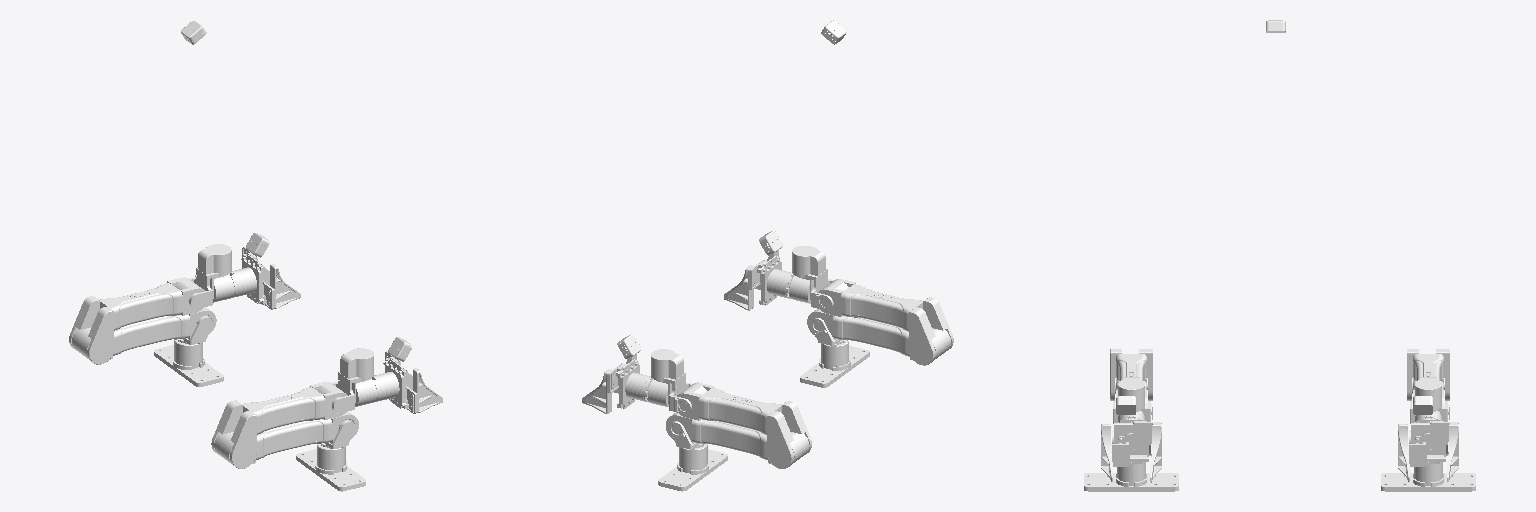
--- Render facts (derived) ---
The picture shows the robot from 3 angles, left to right: view 1: azimuth 30°, elevation 25°; view 2: azimuth 150°, elevation 25°; view 3: azimuth 270°, elevation 25°; orthographic projection.
Model converted_robot with 54 links and 53 joints (12 revolute, 41 fixed), rooted at world, posed every joint at zero.
Visible links, largest first — view 1: right_link_3, left_link_3, left_link_2, right_link_2, right_arm, left_arm, left_link_4, right_link_4, right_link_6, left_link_6, left_right_link_finger, right_right_link_finger (+2 smaller); view 2: right_link_3, left_link_3, right_link_2, left_link_2, left_arm, right_arm, right_link_4, left_link_4, left_link_6, right_link_6, right_left_link_finger, left_left_link_finger (+1 smaller); view 3: left_arm, right_arm, right_link_3, left_link_3, left_left_link_finger, right_left_link_finger, right_right_link_finger, left_right_link_finger, left_link_4, right_link_4, right_link_6, left_link_6.
Link boxes in pixels (bbox=[...]): right_link_3: bbox=[211, 382, 347, 468]; left_link_3: bbox=[69, 277, 204, 364]; left_link_2: bbox=[72, 307, 216, 359]; right_link_2: bbox=[214, 412, 358, 463]; right_arm: bbox=[296, 443, 365, 491]; left_arm: bbox=[154, 339, 223, 386]; left_link_4: bbox=[189, 244, 231, 308]; right_link_4: bbox=[332, 348, 373, 412]; right_link_6: bbox=[371, 358, 408, 408]; left_link_6: bbox=[229, 253, 266, 304]; left_right_link_finger: bbox=[260, 264, 300, 309]; right_right_link_finger: bbox=[402, 368, 442, 413]; right_link_3: bbox=[818, 279, 953, 365]; left_link_3: bbox=[677, 382, 811, 468]; right_link_2: bbox=[807, 309, 950, 360]; left_link_2: bbox=[666, 412, 809, 463]; left_arm: bbox=[658, 444, 727, 491]; right_arm: bbox=[800, 340, 869, 387]; right_link_4: bbox=[792, 246, 833, 310]; left_link_4: bbox=[651, 349, 691, 413]; left_link_6: bbox=[616, 359, 652, 408]; right_link_6: bbox=[757, 256, 794, 305]; right_left_link_finger: bbox=[724, 260, 767, 310]; left_left_link_finger: bbox=[582, 363, 626, 413]; left_arm: bbox=[1381, 462, 1475, 491]; right_arm: bbox=[1084, 462, 1178, 491]; right_link_3: bbox=[1110, 349, 1152, 407]; left_link_3: bbox=[1407, 349, 1449, 407]; left_left_link_finger: bbox=[1430, 421, 1458, 481]; right_left_link_finger: bbox=[1133, 421, 1161, 482]; right_right_link_finger: bbox=[1101, 424, 1129, 481]; left_right_link_finger: bbox=[1398, 424, 1426, 482]; left_link_4: bbox=[1410, 377, 1449, 423]; right_link_4: bbox=[1113, 377, 1152, 423]; right_link_6: bbox=[1114, 418, 1148, 463]; left_link_6: bbox=[1411, 418, 1445, 463].
Size in the robot's own frame: 0.5326 by 0.82 by 0.9936 metres.
40 mesh visuals loaded from 19 distinct referenced files (18 binary STL); not drawn: 1 (reference not matched to a file when rendering).

robot.urdf — converted_robot:
<?xml version="1.0" ?>
<robot name="converted_robot">
   <!--generated with mjcf_urdf_simple_converter (https://github.com/Yasu31/mjcf_urdf_simple_converter)-->
   <link name="world">
      <inertial>
         <origin xyz="0.0 0.0 0.0" rpy="0.0 0.0 0.0"/>
         <mass value="0.0"/>
         <inertia ixx="0.0" iyy="0.0" izz="0.0" ixy="0" ixz="0" iyz="0"/>
      </inertial>
      <visual name="base_visual_gate">
         <origin xyz="6.044793211751718e-08 -1.208077272850722e-07 0.6055970717456246" rpy="1.5707963267948966 0.0 0.0"/>
         <geometry>
            <mesh filename="converted_base_visual_gate.stl"/>
         </geometry>
         <material name="white"/>
      </visual>
   </link>
   <link name="gate_collision">
      <inertial>
         <origin xyz="0.0 0.0 0.6341275167785235" rpy="1.5707963267948963 0.0 0.0"/>
         <mass value="2.682"/>
         <inertia ixx="0.9070943083892616" iyy="0.6591625499999998" izz="0.24833405838926176" ixy="0" ixz="0" iyz="0"/>
      </inertial>
   </link>
   <joint type="fixed" name="world2gate_collision_fixed">
      <parent link="world"/>
      <child link="gate_collision"/>
      <origin xyz="0.0 0.0 0.75" rpy="0.0 0.0 0.0"/>
   </joint>
   <link name="top_bar_center">
      <inertial>
         <origin xyz="0.0 0.0 0.915" rpy="0.0 0.0 0.0"/>
         <mass value="0.0"/>
         <inertia ixx="0.0" iyy="0.0" izz="0.0" ixy="0" ixz="0" iyz="0"/>
      </inertial>
   </link>
   <joint type="fixed" name="gate_collision2top_bar_center_fixed">
      <parent link="gate_collision"/>
      <child link="top_bar_center"/>
      <origin xyz="0.0 0.0 0.915" rpy="0.0 0.0 0.0"/>
   </joint>
   <link name="top_camera_d405">
      <inertial>
         <origin xyz="5.836344222936563e-05 6.962318781131341e-06 -0.01113196181391871" rpy="3.141592653589793 -1.568072890381705 0.0"/>
         <mass value="0.041626485095382235"/>
         <inertia ixx="1.1629701774404747e-05" iyy="7.679969361232612e-06" izz="7.6231825803312755e-06" ixy="0" ixz="0" iyz="0"/>
      </inertial>
      <visual name="camera_d405">
         <origin xyz="5.836344222936564e-05 6.962318781131341e-06 -0.01113196181391871" rpy="3.141592653589793 -1.5680728903817045 0.0"/>
         <geometry>
            <mesh filename="converted_camera_d405.stl"/>
         </geometry>
         <material name="white"/>
      </visual>
      <visual name="camera_d405">
         <origin xyz="5.836344222936564e-05 6.962318781131341e-06 -0.01113196181391871" rpy="3.141592653589793 -1.5680728903817045 0.0"/>
         <geometry>
            <mesh filename="converted_camera_d405.stl"/>
         </geometry>
         <material name="white"/>
      </visual>
   </link>
   <joint type="fixed" name="top_bar_center2top_camera_d405_fixed">
      <parent link="top_bar_center"/>
      <child link="top_camera_d405"/>
      <origin xyz="0.08600512 -0.009 0.03932053" rpy="2.6179960138264193 0.0 1.570796326794897"/>
   </joint>
   <link name="top_camera_frame">
      <inertial>
         <origin xyz="0.009 0.0 0.0" rpy="0.0 0.0 3.141592653589793"/>
         <mass value="0.0"/>
         <inertia ixx="0.0" iyy="0.0" izz="0.0" ixy="0" ixz="0" iyz="0"/>
      </inertial>
   </link>
   <joint type="fixed" name="top_camera_d4052top_camera_frame_fixed">
      <parent link="top_camera_d405"/>
      <child link="top_camera_frame"/>
      <origin xyz="0.009 0.0 0.0" rpy="0.0 0.0 3.141592653589793"/>
   </joint>
   <link name="play_table">
      <inertial>
         <origin xyz="0.6 0.0 0.745" rpy="0.0 0.0 0.0"/>
         <mass value="7.734999999999999"/>
         <inertia ixx="1.0894102916666666" iyy="0.22826307291666662" izz="1.3175444479166665" ixy="0" ixz="0" iyz="0"/>
      </inertial>
   </link>
   <joint type="fixed" name="world2play_table_fixed">
      <parent link="world"/>
      <child link="play_table"/>
      <origin xyz="0.0 0.0 0.0" rpy="0.0 0.0 0.0"/>
   </joint>
   <link name="left_arm">
      <inertial>
         <origin xyz="0.0 0.0 0.026" rpy="0.0 0.0 0.0"/>
         <mass value="0.21895644158459424"/>
         <inertia ixx="0.00013879124248906134" iyy="0.00013879124248906134" izz="0.00010282878735692499" ixy="0" ixz="0" iyz="0"/>
      </inertial>
      <visual name="model2">
         <origin xyz="-2.0738360577213484e-05 2.041311002275178e-05 0.01154286287615687" rpy="1.5701130102263443 0.005344186766800929 -3.1414365496107033"/>
         <geometry>
            <mesh filename="converted_model2.stl"/>
         </geometry>
         <material name="white"/>
      </visual>
   </link>
   <joint type="fixed" name="world2left_arm_fixed">
      <parent link="world"/>
      <child link="left_arm"/>
      <origin xyz="0.2525 0.31 0.75" rpy="0.0 0.0 0.0"/>
   </joint>
   <link name="left_link_1">
      <inertial>
         <origin xyz="-0.00192861 -0.00795735 0.0208176" rpy="1.6743480392523336 -0.6015439689011489 1.5666873963753192"/>
         <mass value="0.12415"/>
         <inertia ixx="0.000180751" iyy="0.000145532" izz="5.89179e-05" ixy="0" ixz="0" iyz="0"/>
      </inertial>
      <visual name="model2__2">
         <origin xyz="0.0007117901440024366 -0.008267794027987337 0.022250179687008112" rpy="1.5650454550240567 -0.6317582807873866 1.5710673633815686"/>
         <geometry>
            <mesh filename="converted_model2__2.stl"/>
         </geometry>
         <material name="white"/>
      </visual>
   </link>
   <link name="left_joint1_jointbody">
      <inertial>
         <origin xyz="0.0 0.0 0.0" rpy="0.0 0.0 0.0"/>
         <mass value="0.001"/>
         <inertia ixx="1e-09" iyy="1e-09" izz="1e-09" ixy="0" ixz="0" iyz="0"/>
      </inertial>
   </link>
   <joint type="revolute" name="left_joint1">
      <parent link="left_arm"/>
      <child link="left_joint1_jointbody"/>
      <origin xyz="0.0 0.0 0.0631" rpy="0.0 0.0 1.5707963267948963"/>
      <axis xyz="0.0 0.0 1.0"/>
      <limit lower="-2.61799" upper="3.05433" effort="100" velocity="100"/>
   </joint>
   <joint type="fixed" name="left_joint1_offset">
      <parent link="left_joint1_jointbody"/>
      <child link="left_link_1"/>
      <origin xyz="-0.0 -0.0 -0.0" rpy="0.0 0.0 0.0"/>
   </joint>
   <link name="left_link_2">
      <inertial>
         <origin xyz="0.132008 2.10599e-06 0.000293073" rpy="1.5707963267948966 0.0 1.5707963267948966"/>
         <mass value="1.24434"/>
         <inertia ixx="0.0121902" iyy="0.0121318" izz="0.000683304" ixy="0" ixz="0" iyz="0"/>
      </inertial>
      <visual name="model2__3">
         <origin xyz="0.26007948449650414 2.5977632368834325e-07 0.00022869283697025413" rpy="0.0012886015838013964 0.0 1.5707963267948966"/>
         <geometry>
            <mesh filename="converted_model2__3.stl"/>
         </geometry>
         <material name="white"/>
      </visual>
      <visual name="model2__4">
         <origin xyz="0.003920561027152974 2.5977629421192194e-07 0.00022869282878015162" rpy="-0.0012886020855807923 0.0 1.5707963267948966"/>
         <geometry>
            <mesh filename="converted_model2__4.stl"/>
         </geometry>
         <material name="white"/>
      </visual>
      <visual name="model2__5">
         <origin xyz="0.1320117461361114 -1.306943646950387e-05 9.079293692478702e-08" rpy="1.5720341600620278 -1.5679213575591913 -1.5720413321414013"/>
         <geometry>
            <mesh filename="converted_model2__5.stl"/>
         </geometry>
         <material name="white"/>
      </visual>
   </link>
   <link name="left_joint2_jointbody">
      <inertial>
         <origin xyz="0.0 0.0 0.0" rpy="0.0 0.0 0.0"/>
         <mass value="0.001"/>
         <inertia ixx="1e-09" iyy="1e-09" izz="1e-09" ixy="0" ixz="0" iyz="0"/>
      </inertial>
   </link>
   <joint type="revolute" name="left_joint2">
      <parent link="left_link_1"/>
      <child link="left_joint2_jointbody"/>
      <origin xyz="2.5e-05 -0.02 0.0409" rpy="1.5707963267948966 0.0 1.5707963267948966"/>
      <axis xyz="0.0 0.0 1.0"/>
      <limit lower="0.0" upper="3.66519" effort="100" velocity="100"/>
   </joint>
   <joint type="fixed" name="left_joint2_offset">
      <parent link="left_joint2_jointbody"/>
      <child link="left_link_2"/>
      <origin xyz="-0.0 -0.0 -0.0" rpy="0.0 0.0 0.0"/>
   </joint>
   <link name="left_link_3">
      <inertial>
         <origin xyz="-0.121816 -0.054846 -0.000111108" rpy="1.5707963267948966 0.0 1.5707963267948966"/>
         <mass value="0.853698"/>
         <inertia ixx="0.00699732" iyy="0.00696112" izz="0.000788244" ixy="0" ixz="0" iyz="0"/>
      </inertial>
      <visual name="model2__6">
         <origin xyz="-0.24063976713274154 -0.059999782142154706 -0.003760273578300405" rpy="3.0364915071378875 0.0 -1.570796326794897"/>
         <geometry>
            <mesh filename="converted_model2__6.stl"/>
         </geometry>
         <material name="white"/>
      </visual>
      <visual name="model2__7">
         <origin xyz="-0.007710009148021196 -0.03486048010433765 0.0347071645682882" rpy="-2.8787900674372295 1.4720957652931412 1.6013719605643308"/>
         <geometry>
            <mesh filename="converted_model2__7.stl"/>
         </geometry>
         <material name="white"/>
      </visual>
      <visual name="model2__8">
         <origin xyz="-0.1206720859561709 -0.06001334031535149 5.408345552423209e-07" rpy="1.5707945314613085 0.0026832997041226214 -1.570809065297576"/>
         <geometry>
            <mesh filename="converted_model2__8.stl"/>
         </geometry>
         <material name="white"/>
      </visual>
      <visual name="model2__9">
         <origin xyz="-0.008240431625057998 -0.03737256683266851 -0.033699619180835645" rpy="0.2883614312261503 1.443690062944694 -1.515041718980295"/>
         <geometry>
            <mesh filename="converted_model2__9.stl"/>
         </geometry>
         <material name="white"/>
      </visual>
   </link>
   <link name="left_joint3_jointbody">
      <inertial>
         <origin xyz="0.0 0.0 0.0" rpy="0.0 0.0 0.0"/>
         <mass value="0.001"/>
         <inertia ixx="1e-09" iyy="1e-09" izz="1e-09" ixy="0" ixz="0" iyz="0"/>
      </inertial>
   </link>
   <joint type="revolute" name="left_joint3">
      <parent link="left_link_2"/>
      <child link="left_joint3_jointbody"/>
      <origin xyz="0.264 0.0 0.0" rpy="3.141592653589793 0.0 0.0"/>
      <axis xyz="0.0 0.0 1.0"/>
      <limit lower="0.0" upper="3.66519" effort="100" velocity="100"/>
   </joint>
   <joint type="fixed" name="left_joint3_offset">
      <parent link="left_joint3_jointbody"/>
      <child link="left_link_3"/>
      <origin xyz="-0.0 -0.0 -0.0" rpy="0.0 0.0 0.0"/>
   </joint>
   <link name="left_link_4">
      <inertial>
         <origin xyz="-0.0769778 -0.0527104 0.000154878" rpy="1.5707963267948966 0.0 -0.680153217144944"/>
         <mass value="0.463511"/>
         <inertia ixx="0.000791532" iyy="0.000744733" izz="0.000282116" ixy="0" ixz="0" iyz="0"/>
      </inertial>
      <visual name="model2__10">
         <origin xyz="-0.046776068687813616 -0.038270471745625256 -0.0008915243508352188" rpy="1.5394854457020646 0.021662003917253037 -0.7117475435376934"/>
         <geometry>
            <mesh filename="converted_model2__10.stl"/>
         </geometry>
         <material name="white"/>
      </visual>
   </link>
   <link name="left_joint4_jointbody">
      <inertial>
         <origin xyz="0.0 0.0 0.0" rpy="0.0 0.0 0.0"/>
         <mass value="0.001"/>
         <inertia ixx="1e-09" iyy="1e-09" izz="1e-09" ixy="0" ixz="0" iyz="0"/>
      </inertial>
   </link>
   <joint type="revolute" name="left_joint4">
      <parent link="left_link_3"/>
      <child link="left_joint4_jointbody"/>
      <origin xyz="-0.245 -0.06 0.0" rpy="0.0 0.0 0.0"/>
      <axis xyz="0.0 0.0 1.0"/>
      <limit lower="-1.5708" upper="1.5708" effort="100" velocity="100"/>
   </joint>
   <joint type="fixed" name="left_joint4_offset">
      <parent link="left_joint4_jointbody"/>
      <child link="left_link_4"/>
      <origin xyz="-0.0 -0.0 -0.0" rpy="0.0 0.0 0.0"/>
   </joint>
   <link name="left_link_5">
      <inertial>
         <origin xyz="3.64861e-05 0.00025665 0.0353526" rpy="0.0 0.0 0.0"/>
         <mass value="0.350962"/>
         <inertia ixx="0.000197802" iyy="0.0001775" izz="0.000147402" ixy="0" ixz="0" iyz="0"/>
      </inertial>
      <visual name="model2__11">
         <origin xyz="5.815639855540116e-05 -0.0005553836621680353 0.03206235288381598" rpy="2.67318045036048 0.0016544870659682687 -0.011529382184967352"/>
         <geometry>
            <mesh filename="converted_model2__11.stl"/>
         </geometry>
         <material name="white"/>
      </visual>
   </link>
   <link name="left_joint5_jointbody">
      <inertial>
         <origin xyz="0.0 0.0 0.0" rpy="0.0 0.0 0.0"/>
         <mass value="0.001"/>
         <inertia ixx="1e-09" iyy="1e-09" izz="1e-09" ixy="0" ixz="0" iyz="0"/>
      </inertial>
   </link>
   <joint type="revolute" name="left_joint5">
      <parent link="left_link_4"/>
      <child link="left_joint5_jointbody"/>
      <origin xyz="-0.074 -0.0395 2.5e-05" rpy="-1.5707963267948966 1.5707963267948966 0.0"/>
      <axis xyz="0.0 0.0 1.0"/>
      <limit lower="-1.5708" upper="1.5708" effort="100" velocity="100"/>
   </joint>
   <joint type="fixed" name="left_joint5_offset">
      <parent link="left_joint5_jointbody"/>
      <child link="left_link_5"/>
      <origin xyz="-0.0 -0.0 -0.0" rpy="0.0 0.0 0.0"/>
   </joint>
   <link name="left_link_6">
      <inertial>
         <origin xyz="-0.000217767 7.37059e-05 0.0270545" rpy="1.5707963267948963 0.0 0.0"/>
         <mass value="0.367476"/>
         <inertia ixx="0.000265958" iyy="0.000242686" izz="0.000227409" ixy="0" ixz="0" iyz="0"/>
      </inertial>
      <visual name="model2__12">
         <origin xyz="8.788302043375991e-05 0.0001190912220788709 0.05116721790419726" rpy="-1.745366888758472 1.5654909718508199 -1.969912540567698"/>
         <geometry>
            <mesh filename="converted_model2__12.stl"/>
         </geometry>
         <material name="white"/>
      </visual>
      <visual name="model2__13">
         <origin xyz="-0.00017825474995774047 1.6195054943213272e-05 0.03422382038141725" rpy="-1.5799559470247644 0.8170286688385331 -0.14641337505452368"/>
         <geometry>
            <mesh filename="converted_model2__13.stl"/>
         </geometry>
         <material name="white"/>
      </visual>
   </link>
   <link name="left_joint6_jointbody">
      <inertial>
         <origin xyz="0.0 0.0 0.0" rpy="0.0 0.0 0.0"/>
         <mass value="0.001"/>
         <inertia ixx="1e-09" iyy="1e-09" izz="1e-09" ixy="0" ixz="0" iyz="0"/>
      </inertial>
   </link>
   <joint type="revolute" name="left_joint6">
      <parent link="left_link_5"/>
      <child link="left_joint6_jointbody"/>
      <origin xyz="0.0 0.0353 0.0395" rpy="-1.5707963267948957 0.0 0.0"/>
      <axis xyz="0.0 0.0 1.0"/>
      <limit lower="-2.0944" upper="2.0944" effort="100" velocity="100"/>
   </joint>
   <joint type="fixed" name="left_joint6_offset">
      <parent link="left_joint6_jointbody"/>
      <child link="left_link_6"/>
      <origin xyz="-0.0 -0.0 -0.0" rpy="0.0 0.0 0.0"/>
   </joint>
   <link name="left_tcp">
      <inertial>
         <origin xyz="0.0 0.0 0.0" rpy="0.0 0.0 3.141592653589793"/>
         <mass value="0.0"/>
         <inertia ixx="0.0" iyy="0.0" izz="0.0" ixy="0" ixz="0" iyz="0"/>
      </inertial>
   </link>
   <joint type="fixed" name="left_link_62left_tcp_fixed">
      <parent link="left_link_6"/>
      <child link="left_tcp"/>
      <origin xyz="0.0 0.0 0.0" rpy="0.0 0.0 3.141592653589793"/>
   </joint>
   <link name="left_left_link_finger">
      <inertial>
         <origin xyz="-0.0192995 -0.0365902 0.039774" rpy="1.4011563087563856 -0.5060949682086457 -0.429405075626507"/>
         <mass value="0.118"/>
         <inertia ixx="0.000159084" iyy="0.000154909" izz="4.63655e-05" ixy="0" ixz="0" iyz="0"/>
      </inertial>
      <visual name="model2__14">
         <origin xyz="-0.02621919095860112 -0.050961301789609365 0.04847966761952425" rpy="1.2436149090470108 -1.3351755324428625 3.1192068678405445"/>
         <geometry>
            <mesh filename="converted_model2__14.stl"/>
         </geometry>
         <material name="white"/>
      </visual>
      <visual name="model2__15">
         <origin xyz="-0.0018267628293356375 -0.014013453565219658 0.02860778296204746" rpy="-0.08499655397451025 -0.08210615684708134 0.012014286826329143"/>
         <geometry>
            <mesh filename="converted_model2__15.stl"/>
         </geometry>
         <material name="white"/>
      </visual>
   </link>
   <link name="left_left_finger_jointbody">
      <inertial>
         <origin xyz="0.0 0.0 0.0" rpy="0.0 0.0 0.0"/>
         <mass value="0.001"/>
         <inertia ixx="1e-09" iyy="1e-09" izz="1e-09" ixy="0" ixz="0" iyz="0"/>
      </inertial>
   </link>
   <joint type="fixed" name="left_left_finger">
      <parent link="left_link_6"/>
      <child link="left_left_finger_jointbody"/>
      <origin xyz="0.00205 0.0392 0.0605" rpy="-0.0 1.5707963267948966 0.0"/>
   </joint>
   <joint type="fixed" name="left_left_finger_offset">
      <parent link="left_left_finger_jointbody"/>
      <child link="left_left_link_finger"/>
      <origin xyz="-0.0 -0.0 -0.0" rpy="0.0 0.0 0.0"/>
   </joint>
   <link name="left_lf_rot">
      <inertial>
         <origin xyz="-0.008421052631578949 -0.015789473684210527 0.020421052631578947" rpy="2.0371972904739044 0.3450347438073702 1.578176982162618"/>
         <mass value="0.039793506945470715"/>
         <inertia ixx="2.3910377025971746e-05" iyy="2.073020409924441e-05" izz="5.660175354997655e-06" ixy="0" ixz="0" iyz="0"/>
      </inertial>
   </link>
   <joint type="fixed" name="left_left_link_finger2left_lf_rot_fixed">
      <parent link="left_left_link_finger"/>
      <child link="left_lf_rot"/>
      <origin xyz="0.0 -0.0392 0.037" rpy="-1.5707963267948966 0.0 1.5707963267948966"/>
   </joint>
   <link name="left_lf_down">
      <inertial>
         <origin xyz="0.004865675005941529 -0.012786258560154471 0.029346031921652322" rpy="0.25192925446947123 0.2603701794465014 1.7911530895748666"/>
         <mass value="0.02077574023677297"/>
         <inertia ixx="1.576706728050404e-05" iyy="1.3071053959973094e-05" izz="3.9436752750553725e-06" ixy="0" ixz="0" iyz="0"/>
      </inertial>
   </link>
   <joint type="fixed" name="left_lf_rot2left_lf_down_fixed">
      <parent link="left_lf_rot"/>
      <child link="left_lf_down"/>
      <origin xyz="-0.044 0.0 0.0" rpy="0.0 0.0 0.0"/>
   </joint>
   <link name="left_right_link_finger">
      <inertial>
         <origin xyz="-0.0192995 0.0365902 -0.039774" rpy="-1.4011563087563856 0.5060949682086457 -0.429405075626507"/>
         <mass value="0.118"/>
         <inertia ixx="0.000159084" iyy="0.000154909" izz="4.63655e-05" ixy="0" ixz="0" iyz="0"/>
      </inertial>
      <visual name="model2__16">
         <origin xyz="-0.001826763203738313 0.014013021507929144 -0.02860778467768097" rpy="-0.08499624911644796 0.08210615585822456 -0.012014239544932075"/>
         <geometry>
            <mesh filename="converted_model2__16.stl"/>
         </geometry>
         <material name="white"/>
      </visual>
      <visual name="model2__17">
         <origin xyz="-0.026152342123741346 0.026813733867866105 -0.04844908896546901" rpy="-1.8906094630983064 -1.3387155199773018 -0.013733131456833414"/>
         <geometry>
            <mesh filename="converted_model2__17.stl"/>
         </geometry>
         <material name="white"/>
      </visual>
   </link>
   <link name="left_right_finger_jointbody">
      <inertial>
         <origin xyz="0.0 0.0 0.0" rpy="0.0 0.0 0.0"/>
         <mass value="0.001"/>
         <inertia ixx="1e-09" iyy="1e-09" izz="1e-09" ixy="0" ixz="0" iyz="0"/>
      </inertial>
   </link>
   <joint type="fixed" name="left_right_finger">
      <parent link="left_link_6"/>
      <child link="left_right_finger_jointbody"/>
      <origin xyz="-0.00205 -0.0392 0.0605" rpy="-0.0 1.5707963267948966 0.0"/>
   </joint>
   <joint type="fixed" name="left_right_finger_offset">
      <parent link="left_right_finger_jointbody"/>
      <child link="left_right_link_finger"/>
      <origin xyz="-0.0 -0.0 -0.0" rpy="0.0 0.0 0.0"/>
   </joint>
   <link name="left_rf_rot">
      <inertial>
         <origin xyz="0.008421052631578949 -0.015789473684210527 0.020421052631578947" rpy="1.1043953631158887 0.3450347438073702 1.5634156714271752"/>
         <mass value="0.039793506945470715"/>
         <inertia ixx="2.3910377025971746e-05" iyy="2.073020409924441e-05" izz="5.660175354997655e-06" ixy="0" ixz="0" iyz="0"/>
      </inertial>
   </link>
   <joint type="fixed" name="left_right_link_finger2left_rf_rot_fixed">
      <parent link="left_right_link_finger"/>
      <child link="left_rf_rot"/>
      <origin xyz="0.0 0.0392 -0.037" rpy="1.5707963267948966 0.0 -1.5707963267948966"/>
   </joint>
   <link name="left_rf_down">
      <inertial>
         <origin xyz="-0.004865675005941529 -0.012786258560154471 0.029346031921652322" rpy="-0.25192925446947134 0.2603701794465014 1.3504395640149265"/>
         <mass value="0.02077574023677297"/>
         <inertia ixx="1.576706728050404e-05" iyy="1.3071053959973094e-05" izz="3.9436752750553725e-06" ixy="0" ixz="0" iyz="0"/>
      </inertial>
   </link>
   <joint type="fixed" name="left_rf_rot2left_rf_down_fixed">
      <parent link="left_rf_rot"/>
      <child link="left_rf_down"/>
      <origin xyz="0.044 0.0 0.0" rpy="0.0 0.0 0.0"/>
   </joint>
   <link name="left_camera_d405">
      <inertial>
         <origin xyz="5.836344222936563e-05 6.962318781131341e-06 -0.01113196181391871" rpy="3.141592653589793 -1.568072890381705 0.0"/>
         <mass value="0.041626485095382235"/>
         <inertia ixx="1.1629701774404747e-05" iyy="7.679969361232612e-06" izz="7.6231825803312755e-06" ixy="0" ixz="0" iyz="0"/>
      </inertial>
      <visual name="camera_d405">
         <origin xyz="5.836344222936564e-05 6.962318781131341e-06 -0.01113196181391871" rpy="3.141592653589793 -1.5680728903817045 0.0"/>
         <geometry>
            <mesh filename="converted_camera_d405.stl"/>
         </geometry>
         <material name="white"/>
      </visual>
      <visual name="camera_d405">
         <origin xyz="5.836344222936564e-05 6.962318781131341e-06 -0.01113196181391871" rpy="3.141592653589793 -1.5680728903817045 0.0"/>
         <geometry>
            <mesh filename="converted_camera_d405.stl"/>
         </geometry>
         <material name="white"/>
      </visual>
   </link>
   <joint type="fixed" name="left_link_62left_camera_d405_fixed">
      <parent link="left_link_6"/>
      <child link="left_camera_d405"/>
      <origin xyz="-0.0107 0.079729 0.066021" rpy="0.6108652095229954 0.0 0.0"/>
   </joint>
   <link name="left_camera_frame">
      <inertial>
         <origin xyz="0.009 0.0 0.0" rpy="0.0 0.0 3.141592653589793"/>
         <mass value="0.0"/>
         <inertia ixx="0.0" iyy="0.0" izz="0.0" ixy="0" ixz="0" iyz="0"/>
      </inertial>
   </link>
   <joint type="fixed" name="left_camera_d4052left_camera_frame_fixed">
      <parent link="left_camera_d405"/>
      <child link="left_camera_frame"/>
      <origin xyz="0.009 0.0 0.0" rpy="0.0 0.0 3.141592653589793"/>
   </joint>
   <link name="right_arm">
      <inertial>
         <origin xyz="0.0 0.0 0.026" rpy="0.0 0.0 0.0"/>
         <mass value="0.21895644158459424"/>
         <inertia ixx="0.00013879124248906134" iyy="0.00013879124248906134" izz="0.00010282878735692499" ixy="0" ixz="0" iyz="0"/>
      </inertial>
      <visual name="model2">
         <origin xyz="-2.0738360577213484e-05 2.041311002275178e-05 0.01154286287615687" rpy="1.5701130102263443 0.005344186766800929 -3.1414365496107033"/>
         <geometry>
            <mesh filename="converted_model2.stl"/>
         </geometry>
         <material name="white"/>
      </visual>
   </link>
   <joint type="fixed" name="world2right_arm_fixed">
      <parent link="world"/>
      <child link="right_arm"/>
      <origin xyz="0.2525 -0.31 0.75" rpy="0.0 0.0 0.0"/>
   </joint>
   <link name="right_link_1">
      <inertial>
         <origin xyz="-0.00192861 -0.00795735 0.0208176" rpy="1.6743480392523336 -0.6015439689011489 1.5666873963753192"/>
         <mass value="0.12415"/>
         <inertia ixx="0.000180751" iyy="0.000145532" izz="5.89179e-05" ixy="0" ixz="0" iyz="0"/>
      </inertial>
      <visual name="model2__2">
         <origin xyz="0.0007117901440024366 -0.008267794027987337 0.022250179687008112" rpy="1.5650454550240567 -0.6317582807873866 1.5710673633815686"/>
         <geometry>
            <mesh filename="converted_model2__2.stl"/>
         </geometry>
         <material name="white"/>
      </visual>
   </link>
   <link name="right_joint1_jointbody">
      <inertial>
         <origin xyz="0.0 0.0 0.0" rpy="0.0 0.0 0.0"/>
         <mass value="0.001"/>
         <inertia ixx="1e-09" iyy="1e-09" izz="1e-09" ixy="0" ixz="0" iyz="0"/>
      </inertial>
   </link>
   <joint type="revolute" name="right_joint1">
      <parent link="right_arm"/>
      <child link="right_joint1_jointbody"/>
      <origin xyz="0.0 0.0 0.0631" rpy="0.0 0.0 1.5707963267948963"/>
      <axis xyz="0.0 0.0 1.0"/>
      <limit lower="-2.61799" upper="3.05433" effort="100" velocity="100"/>
   </joint>
   <joint type="fixed" name="right_joint1_offset">
      <parent link="right_joint1_jointbody"/>
      <child link="right_link_1"/>
      <origin xyz="-0.0 -0.0 -0.0" rpy="0.0 0.0 0.0"/>
   </joint>
   <link name="right_link_2">
      <inertial>
         <origin xyz="0.132008 2.10599e-06 0.000293073" rpy="1.5707963267948966 0.0 1.5707963267948966"/>
         <mass value="1.24434"/>
         <inertia ixx="0.0121902" iyy="0.0121318" izz="0.000683304" ixy="0" ixz="0" iyz="0"/>
      </inertial>
      <visual name="model2__3">
         <origin xyz="0.26007948449650414 2.5977632368834325e-07 0.00022869283697025413" rpy="0.0012886015838013964 0.0 1.5707963267948966"/>
         <geometry>
            <mesh filename="converted_model2__3.stl"/>
         </geometry>
         <material name="white"/>
      </visual>
      <visual name="model2__4">
         <origin xyz="0.003920561027152974 2.5977629421192194e-07 0.00022869282878015162" rpy="-0.0012886020855807923 0.0 1.5707963267948966"/>
         <geometry>
            <mesh filename="converted_model2__4.stl"/>
         </geometry>
         <material name="white"/>
      </visual>
      <visual name="model2__5">
         <origin xyz="0.1320117461361114 -1.306943646950387e-05 9.079293692478702e-08" rpy="1.5720341600620278 -1.5679213575591913 -1.5720413321414013"/>
         <geometry>
            <mesh filename="converted_model2__5.stl"/>
         </geometry>
         <material name="white"/>
      </visual>
   </link>
   <link name="right_joint2_jointbody">
      <inertial>
         <origin xyz="0.0 0.0 0.0" rpy="0.0 0.0 0.0"/>
         <mass value="0.001"/>
         <inertia ixx="1e-09" iyy="1e-09" izz="1e-09" ixy="0" ixz="0" iyz="0"/>
      </inertial>
   </link>
   <joint type="revolute" name="right_joint2">
      <parent link="right_link_1"/>
      <child link="right_joint2_jointbody"/>
      <origin xyz="2.5e-05 -0.02 0.0409" rpy="1.5707963267948966 0.0 1.5707963267948966"/>
      <axis xyz="0.0 0.0 1.0"/>
      <limit lower="0.0" upper="3.66519" effort="100" velocity="100"/>
   </joint>
   <joint type="fixed" name="right_joint2_offset">
      <parent link="right_joint2_jointbody"/>
      <child link="right_link_2"/>
      <origin xyz="-0.0 -0.0 -0.0" rpy="0.0 0.0 0.0"/>
   </joint>
   <link name="right_link_3">
      <inertial>
         <origin xyz="-0.121816 -0.054846 -0.000111108" rpy="1.5707963267948966 0.0 1.5707963267948966"/>
         <mass value="0.853698"/>
         <inertia ixx="0.00699732" iyy="0.00696112" izz="0.000788244" ixy="0" ixz="0" iyz="0"/>
      </inertial>
      <visual name="model2__6">
         <origin xyz="-0.24063976713274154 -0.059999782142154706 -0.003760273578300405" rpy="3.0364915071378875 0.0 -1.570796326794897"/>
         <geometry>
            <mesh filename="converted_model2__6.stl"/>
         </geometry>
         <material name="white"/>
      </visual>
      <visual name="model2__7">
         <origin xyz="-0.007710009148021196 -0.03486048010433765 0.0347071645682882" rpy="-2.8787900674372295 1.4720957652931412 1.6013719605643308"/>
         <geometry>
            <mesh filename="converted_model2__7.stl"/>
         </geometry>
         <material name="white"/>
      </visual>
      <visual name="model2__8">
         <origin xyz="-0.1206720859561709 -0.06001334031535149 5.408345552423209e-07" rpy="1.5707945314613085 0.0026832997041226214 -1.570809065297576"/>
         <geometry>
            <mesh filename="converted_model2__8.stl"/>
         </geometry>
         <material name="white"/>
      </visual>
      <visual name="model2__9">
         <origin xyz="-0.008240431625057998 -0.03737256683266851 -0.033699619180835645" rpy="0.2883614312261503 1.443690062944694 -1.515041718980295"/>
         <geometry>
            <mesh filename="converted_model2__9.stl"/>
         </geometry>
         <material name="white"/>
      </visual>
   </link>
   <link name="right_joint3_jointbody">
      <inertial>
         <origin xyz="0.0 0.0 0.0" rpy="0.0 0.0 0.0"/>
         <mass value="0.001"/>
         <inertia ixx="1e-09" iyy="1e-09" izz="1e-09" ixy="0" ixz="0" iyz="0"/>
      </inertial>
   </link>
   <joint type="revolute" name="right_joint3">
      <parent link="right_link_2"/>
      <child link="right_joint3_jointbody"/>
      <origin xyz="0.264 0.0 0.0" rpy="3.141592653589793 0.0 0.0"/>
      <axis xyz="0.0 0.0 1.0"/>
      <limit lower="0.0" upper="3.66519" effort="100" velocity="100"/>
   </joint>
   <joint type="fixed" name="right_joint3_offset">
      <parent link="right_joint3_jointbody"/>
      <child link="right_link_3"/>
      <origin xyz="-0.0 -0.0 -0.0" rpy="0.0 0.0 0.0"/>
   </joint>
   <link name="right_link_4">
      <inertial>
         <origin xyz="-0.0769778 -0.0527104 0.000154878" rpy="1.5707963267948966 0.0 -0.680153217144944"/>
         <mass value="0.463511"/>
         <inertia ixx="0.000791532" iyy="0.000744733" izz="0.000282116" ixy="0" ixz="0" iyz="0"/>
      </inertial>
      <visual name="model2__10">
         <origin xyz="-0.046776068687813616 -0.038270471745625256 -0.0008915243508352188" rpy="1.5394854457020646 0.021662003917253037 -0.7117475435376934"/>
         <geometry>
            <mesh filename="converted_model2__10.stl"/>
         </geometry>
         <material name="white"/>
      </visual>
   </link>
   <link name="right_joint4_jointbody">
      <inertial>
         <origin xyz="0.0 0.0 0.0" rpy="0.0 0.0 0.0"/>
         <mass value="0.001"/>
         <inertia ixx="1e-09" iyy="1e-09" izz="1e-09" ixy="0" ixz="0" iyz="0"/>
      </inertial>
   </link>
   <joint type="revolute" name="right_joint4">
      <parent link="right_link_3"/>
      <child link="right_joint4_jointbody"/>
      <origin xyz="-0.245 -0.06 0.0" rpy="0.0 0.0 0.0"/>
      <axis xyz="0.0 0.0 1.0"/>
      <limit lower="-1.5708" upper="1.5708" effort="100" velocity="100"/>
   </joint>
   <joint type="fixed" name="right_joint4_offset">
      <parent link="right_joint4_jointbody"/>
      <child link="right_link_4"/>
      <origin xyz="-0.0 -0.0 -0.0" rpy="0.0 0.0 0.0"/>
   </joint>
   <link name="right_link_5">
      <inertial>
         <origin xyz="3.64861e-05 0.00025665 0.0353526" rpy="0.0 0.0 0.0"/>
         <mass value="0.350962"/>
         <inertia ixx="0.000197802" iyy="0.0001775" izz="0.000147402" ixy="0" ixz="0" iyz="0"/>
      </inertial>
      <visual name="model2__11">
         <origin xyz="5.815639855540116e-05 -0.0005553836621680353 0.03206235288381598" rpy="2.67318045036048 0.0016544870659682687 -0.011529382184967352"/>
         <geometry>
            <mesh filename="converted_model2__11.stl"/>
         </geometry>
         <material name="white"/>
      </visual>
   </link>
   <link name="right_joint5_jointbody">
      <inertial>
         <origin xyz="0.0 0.0 0.0" rpy="0.0 0.0 0.0"/>
         <mass value="0.001"/>
         <inertia ixx="1e-09" iyy="1e-09" izz="1e-09" ixy="0" ixz="0" iyz="0"/>
      </inertial>
   </link>
   <joint type="revolute" name="right_joint5">
      <parent link="right_link_4"/>
      <child link="right_joint5_jointbody"/>
      <origin xyz="-0.074 -0.0395 2.5e-05" rpy="-1.5707963267948966 1.5707963267948966 0.0"/>
      <axis xyz="0.0 0.0 1.0"/>
      <limit lower="-1.5708" upper="1.5708" effort="100" velocity="100"/>
   </joint>
   <joint type="fixed" name="right_joint5_offset">
      <parent link="right_joint5_jointbody"/>
      <child link="right_link_5"/>
      <origin xyz="-0.0 -0.0 -0.0" rpy="0.0 0.0 0.0"/>
   </joint>
   <link name="right_link_6">
      <inertial>
         <origin xyz="-0.000217767 7.37059e-05 0.0270545" rpy="1.5707963267948963 0.0 0.0"/>
         <mass value="0.367476"/>
         <inertia ixx="0.000265958" iyy="0.000242686" izz="0.000227409" ixy="0" ixz="0" iyz="0"/>
      </inertial>
      <visual name="model2__12">
         <origin xyz="8.788302043375991e-05 0.0001190912220788709 0.05116721790419726" rpy="-1.745366888758472 1.5654909718508199 -1.969912540567698"/>
         <geometry>
            <mesh filename="converted_model2__12.stl"/>
         </geometry>
         <material name="white"/>
      </visual>
      <visual name="model2__13">
         <origin xyz="-0.00017825474995774047 1.6195054943213272e-05 0.03422382038141725" rpy="-1.5799559470247644 0.8170286688385331 -0.14641337505452368"/>
         <geometry>
            <mesh filename="converted_model2__13.stl"/>
         </geometry>
         <material name="white"/>
      </visual>
   </link>
   <link name="right_joint6_jointbody">
      <inertial>
         <origin xyz="0.0 0.0 0.0" rpy="0.0 0.0 0.0"/>
         <mass value="0.001"/>
         <inertia ixx="1e-09" iyy="1e-09" izz="1e-09" ixy="0" ixz="0" iyz="0"/>
      </inertial>
   </link>
   <joint type="revolute" name="right_joint6">
      <parent link="right_link_5"/>
      <child link="right_joint6_jointbody"/>
      <origin xyz="0.0 0.0353 0.0395" rpy="-1.5707963267948957 0.0 0.0"/>
      <axis xyz="0.0 0.0 1.0"/>
      <limit lower="-2.0944" upper="2.0944" effort="100" velocity="100"/>
   </joint>
   <joint type="fixed" name="right_joint6_offset">
      <parent link="right_joint6_jointbody"/>
      <child link="right_link_6"/>
      <origin xyz="-0.0 -0.0 -0.0" rpy="0.0 0.0 0.0"/>
   </joint>
   <link name="right_tcp">
      <inertial>
         <origin xyz="0.0 0.0 0.0" rpy="0.0 0.0 3.141592653589793"/>
         <mass value="0.0"/>
         <inertia ixx="0.0" iyy="0.0" izz="0.0" ixy="0" ixz="0" iyz="0"/>
      </inertial>
   </link>
   <joint type="fixed" name="right_link_62right_tcp_fixed">
      <parent link="right_link_6"/>
      <child link="right_tcp"/>
      <origin xyz="0.0 0.0 0.0" rpy="0.0 0.0 3.141592653589793"/>
   </joint>
   <link name="right_left_link_finger">
      <inertial>
         <origin xyz="-0.0192995 -0.0365902 0.039774" rpy="1.4011563087563856 -0.5060949682086457 -0.429405075626507"/>
         <mass value="0.118"/>
         <inertia ixx="0.000159084" iyy="0.000154909" izz="4.63655e-05" ixy="0" ixz="0" iyz="0"/>
      </inertial>
      <visual name="model2__14">
         <origin xyz="-0.02621919095860112 -0.050961301789609365 0.04847966761952425" rpy="1.2436149090470108 -1.3351755324428625 3.1192068678405445"/>
         <geometry>
            <mesh filename="converted_model2__14.stl"/>
         </geometry>
         <material name="white"/>
      </visual>
      <visual name="model2__15">
         <origin xyz="-0.0018267628293356375 -0.014013453565219658 0.02860778296204746" rpy="-0.08499655397451025 -0.08210615684708134 0.012014286826329143"/>
         <geometry>
            <mesh filename="converted_model2__15.stl"/>
         </geometry>
         <material name="white"/>
      </visual>
   </link>
   <link name="right_left_finger_jointbody">
      <inertial>
         <origin xyz="0.0 0.0 0.0" rpy="0.0 0.0 0.0"/>
         <mass value="0.001"/>
         <inertia ixx="1e-09" iyy="1e-09" izz="1e-09" ixy="0" ixz="0" iyz="0"/>
      </inertial>
   </link>
   <joint type="fixed" name="right_left_finger">
      <parent link="right_link_6"/>
      <child link="right_left_finger_jointbody"/>
      <origin xyz="0.00205 0.0392 0.0605" rpy="-0.0 1.5707963267948966 0.0"/>
   </joint>
   <joint type="fixed" name="right_left_finger_offset">
      <parent link="right_left_finger_jointbody"/>
      <child link="right_left_link_finger"/>
      <origin xyz="-0.0 -0.0 -0.0" rpy="0.0 0.0 0.0"/>
   </joint>
   <link name="right_lf_rot">
      <inertial>
         <origin xyz="-0.008421052631578949 -0.015789473684210527 0.020421052631578947" rpy="2.0371972904739044 0.3450347438073702 1.578176982162618"/>
         <mass value="0.039793506945470715"/>
         <inertia ixx="2.3910377025971746e-05" iyy="2.073020409924441e-05" izz="5.660175354997655e-06" ixy="0" ixz="0" iyz="0"/>
      </inertial>
   </link>
   <joint type="fixed" name="right_left_link_finger2right_lf_rot_fixed">
      <parent link="right_left_link_finger"/>
      <child link="right_lf_rot"/>
      <origin xyz="0.0 -0.0392 0.037" rpy="-1.5707963267948966 0.0 1.5707963267948966"/>
   </joint>
   <link name="right_lf_down">
      <inertial>
         <origin xyz="0.004865675005941529 -0.012786258560154471 0.029346031921652322" rpy="0.25192925446947123 0.2603701794465014 1.7911530895748666"/>
         <mass value="0.02077574023677297"/>
         <inertia ixx="1.576706728050404e-05" iyy="1.3071053959973094e-05" izz="3.9436752750553725e-06" ixy="0" ixz="0" iyz="0"/>
      </inertial>
   </link>
   <joint type="fixed" name="right_lf_rot2right_lf_down_fixed">
      <parent link="right_lf_rot"/>
      <child link="right_lf_down"/>
      <origin xyz="-0.044 0.0 0.0" rpy="0.0 0.0 0.0"/>
   </joint>
   <link name="right_right_link_finger">
      <inertial>
         <origin xyz="-0.0192995 0.0365902 -0.039774" rpy="-1.4011563087563856 0.5060949682086457 -0.429405075626507"/>
         <mass value="0.118"/>
         <inertia ixx="0.000159084" iyy="0.000154909" izz="4.63655e-05" ixy="0" ixz="0" iyz="0"/>
      </inertial>
      <visual name="model2__16">
         <origin xyz="-0.001826763203738313 0.014013021507929144 -0.02860778467768097" rpy="-0.08499624911644796 0.08210615585822456 -0.012014239544932075"/>
         <geometry>
            <mesh filename="converted_model2__16.stl"/>
         </geometry>
         <material name="white"/>
      </visual>
      <visual name="model2__17">
         <origin xyz="-0.026152342123741346 0.026813733867866105 -0.04844908896546901" rpy="-1.8906094630983064 -1.3387155199773018 -0.013733131456833414"/>
         <geometry>
            <mesh filename="converted_model2__17.stl"/>
         </geometry>
         <material name="white"/>
      </visual>
   </link>
   <link name="right_right_finger_jointbody">
      <inertial>
         <origin xyz="0.0 0.0 0.0" rpy="0.0 0.0 0.0"/>
         <mass value="0.001"/>
         <inertia ixx="1e-09" iyy="1e-09" izz="1e-09" ixy="0" ixz="0" iyz="0"/>
      </inertial>
   </link>
   <joint type="fixed" name="right_right_finger">
      <parent link="right_link_6"/>
      <child link="right_right_finger_jointbody"/>
      <origin xyz="-0.00205 -0.0392 0.0605" rpy="-0.0 1.5707963267948966 0.0"/>
   </joint>
   <joint type="fixed" name="right_right_finger_offset">
      <parent link="right_right_finger_jointbody"/>
      <child link="right_right_link_finger"/>
      <origin xyz="-0.0 -0.0 -0.0" rpy="0.0 0.0 0.0"/>
   </joint>
   <link name="right_rf_rot">
      <inertial>
         <origin xyz="0.008421052631578949 -0.015789473684210527 0.020421052631578947" rpy="1.1043953631158887 0.3450347438073702 1.5634156714271752"/>
         <mass value="0.039793506945470715"/>
         <inertia ixx="2.3910377025971746e-05" iyy="2.073020409924441e-05" izz="5.660175354997655e-06" ixy="0" ixz="0" iyz="0"/>
      </inertial>
   </link>
   <joint type="fixed" name="right_right_link_finger2right_rf_rot_fixed">
      <parent link="right_right_link_finger"/>
      <child link="right_rf_rot"/>
      <origin xyz="0.0 0.0392 -0.037" rpy="1.5707963267948966 0.0 -1.5707963267948966"/>
   </joint>
   <link name="right_rf_down">
      <inertial>
         <origin xyz="-0.004865675005941529 -0.012786258560154471 0.029346031921652322" rpy="-0.25192925446947134 0.2603701794465014 1.3504395640149265"/>
         <mass value="0.02077574023677297"/>
         <inertia ixx="1.576706728050404e-05" iyy="1.3071053959973094e-05" izz="3.9436752750553725e-06" ixy="0" ixz="0" iyz="0"/>
      </inertial>
   </link>
   <joint type="fixed" name="right_rf_rot2right_rf_down_fixed">
      <parent link="right_rf_rot"/>
      <child link="right_rf_down"/>
      <origin xyz="0.044 0.0 0.0" rpy="0.0 0.0 0.0"/>
   </joint>
   <link name="right_camera_d405">
      <inertial>
         <origin xyz="5.836344222936563e-05 6.962318781131341e-06 -0.01113196181391871" rpy="3.141592653589793 -1.568072890381705 0.0"/>
         <mass value="0.041626485095382235"/>
         <inertia ixx="1.1629701774404747e-05" iyy="7.679969361232612e-06" izz="7.6231825803312755e-06" ixy="0" ixz="0" iyz="0"/>
      </inertial>
      <visual name="camera_d405">
         <origin xyz="5.836344222936564e-05 6.962318781131341e-06 -0.01113196181391871" rpy="3.141592653589793 -1.5680728903817045 0.0"/>
         <geometry>
            <mesh filename="converted_camera_d405.stl"/>
         </geometry>
         <material name="white"/>
      </visual>
      <visual name="camera_d405">
         <origin xyz="5.836344222936564e-05 6.962318781131341e-06 -0.01113196181391871" rpy="3.141592653589793 -1.5680728903817045 0.0"/>
         <geometry>
            <mesh filename="converted_camera_d405.stl"/>
         </geometry>
         <material name="white"/>
      </visual>
   </link>
   <joint type="fixed" name="right_link_62right_camera_d405_fixed">
      <parent link="right_link_6"/>
      <child link="right_camera_d405"/>
      <origin xyz="-0.0107 0.079729 0.066021" rpy="0.6108652095229954 0.0 0.0"/>
   </joint>
   <link name="right_camera_frame">
      <inertial>
         <origin xyz="0.009 0.0 0.0" rpy="0.0 0.0 3.141592653589793"/>
         <mass value="0.0"/>
         <inertia ixx="0.0" iyy="0.0" izz="0.0" ixy="0" ixz="0" iyz="0"/>
      </inertial>
   </link>
   <joint type="fixed" name="right_camera_d4052right_camera_frame_fixed">
      <parent link="right_camera_d405"/>
      <child link="right_camera_frame"/>
      <origin xyz="0.009 0.0 0.0" rpy="0.0 0.0 3.141592653589793"/>
   </joint>
   <material name="white">
      <color rgba="1 1 1 1"/>
   </material>
</robot>
